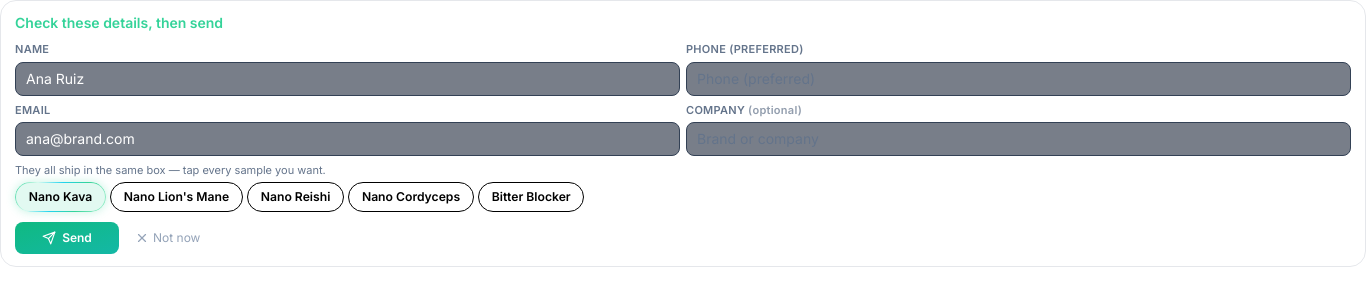
Test: Sol asks before anything is sent › sends nothing on the first click
The width and height of the screenshot is (1366, 306).
Click the button "Send". click: click(67, 238)
box: [15,222,119,254]
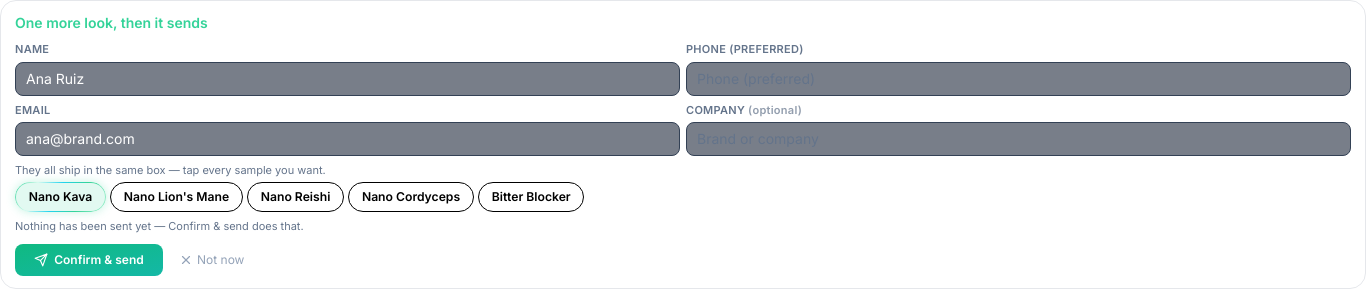
Expected: the text "Nothing has been sent yet — Confirm & send does that." is shown, [15,219,304,233]
